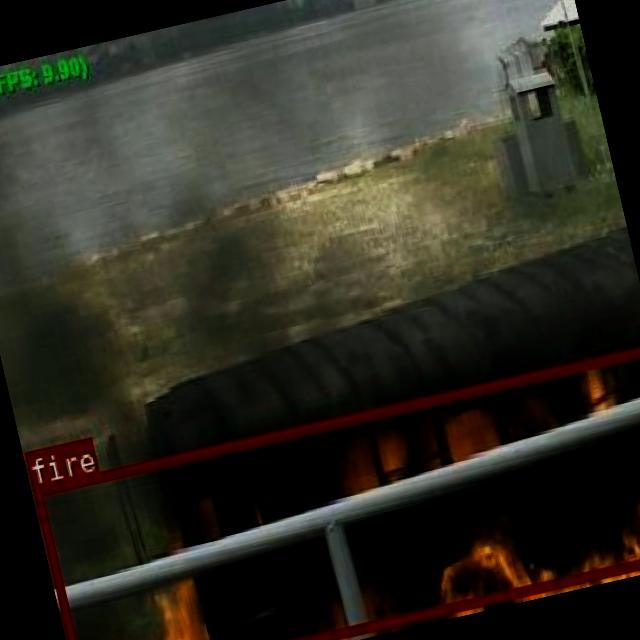fire: (30, 342, 640, 640)
